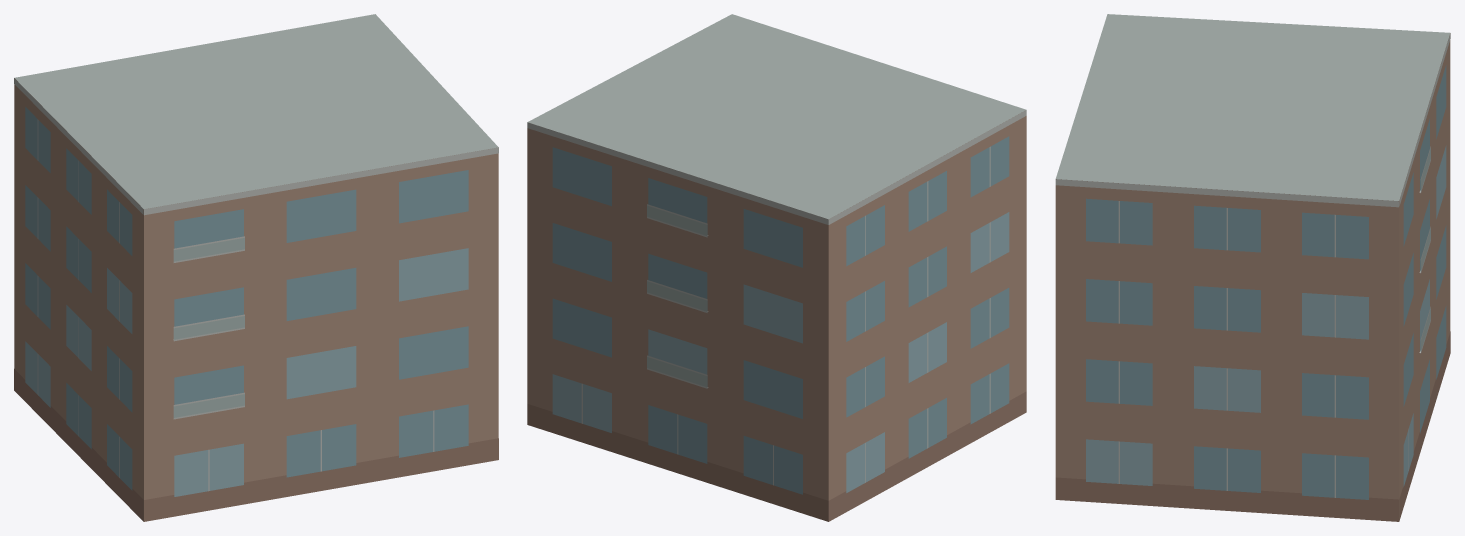
Rendered from survey-upis-32745913.glb.
3 views of the same model, side by side, from view 1: azimuth 30°, elevation 25°; view 2: azimuth 150°, elevation 25°; view 3: azimuth 270°, elevation 25° (orthographic). The views are drawn at different scales.
Visible parts, largest first — view 1: survey-upis-32745913.tmp; view 2: survey-upis-32745913.tmp; view 3: survey-upis-32745913.tmp.
Boxes of the visible parts, x1,y1,x2,y2 form: survey-upis-32745913.tmp: (14,14,498,521); survey-upis-32745913.tmp: (527,14,1026,521); survey-upis-32745913.tmp: (1055,14,1450,521).
Bounding box in the file's own units: 15.77 × 12.6 × 14.07.
